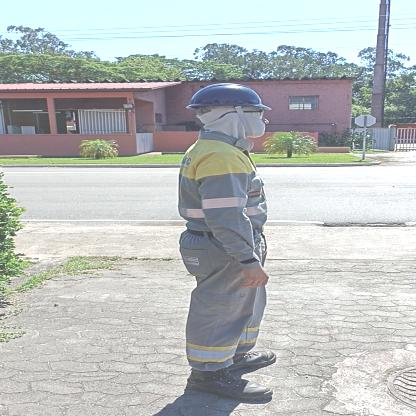Balaclava: (192, 105, 271, 140)
Capacete: (190, 82, 267, 107)
